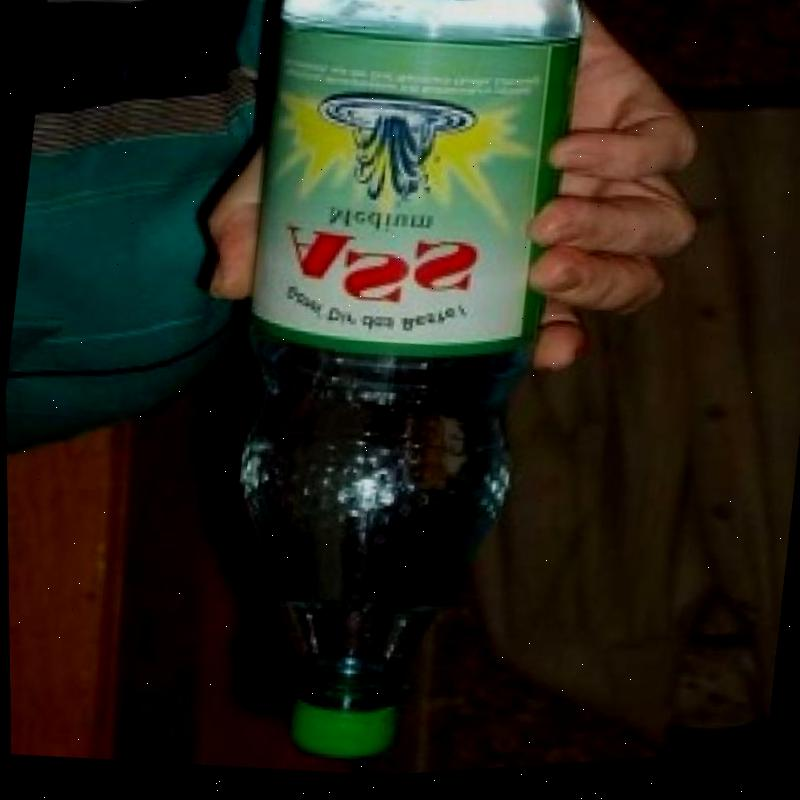botella: (181, 0, 594, 791)
